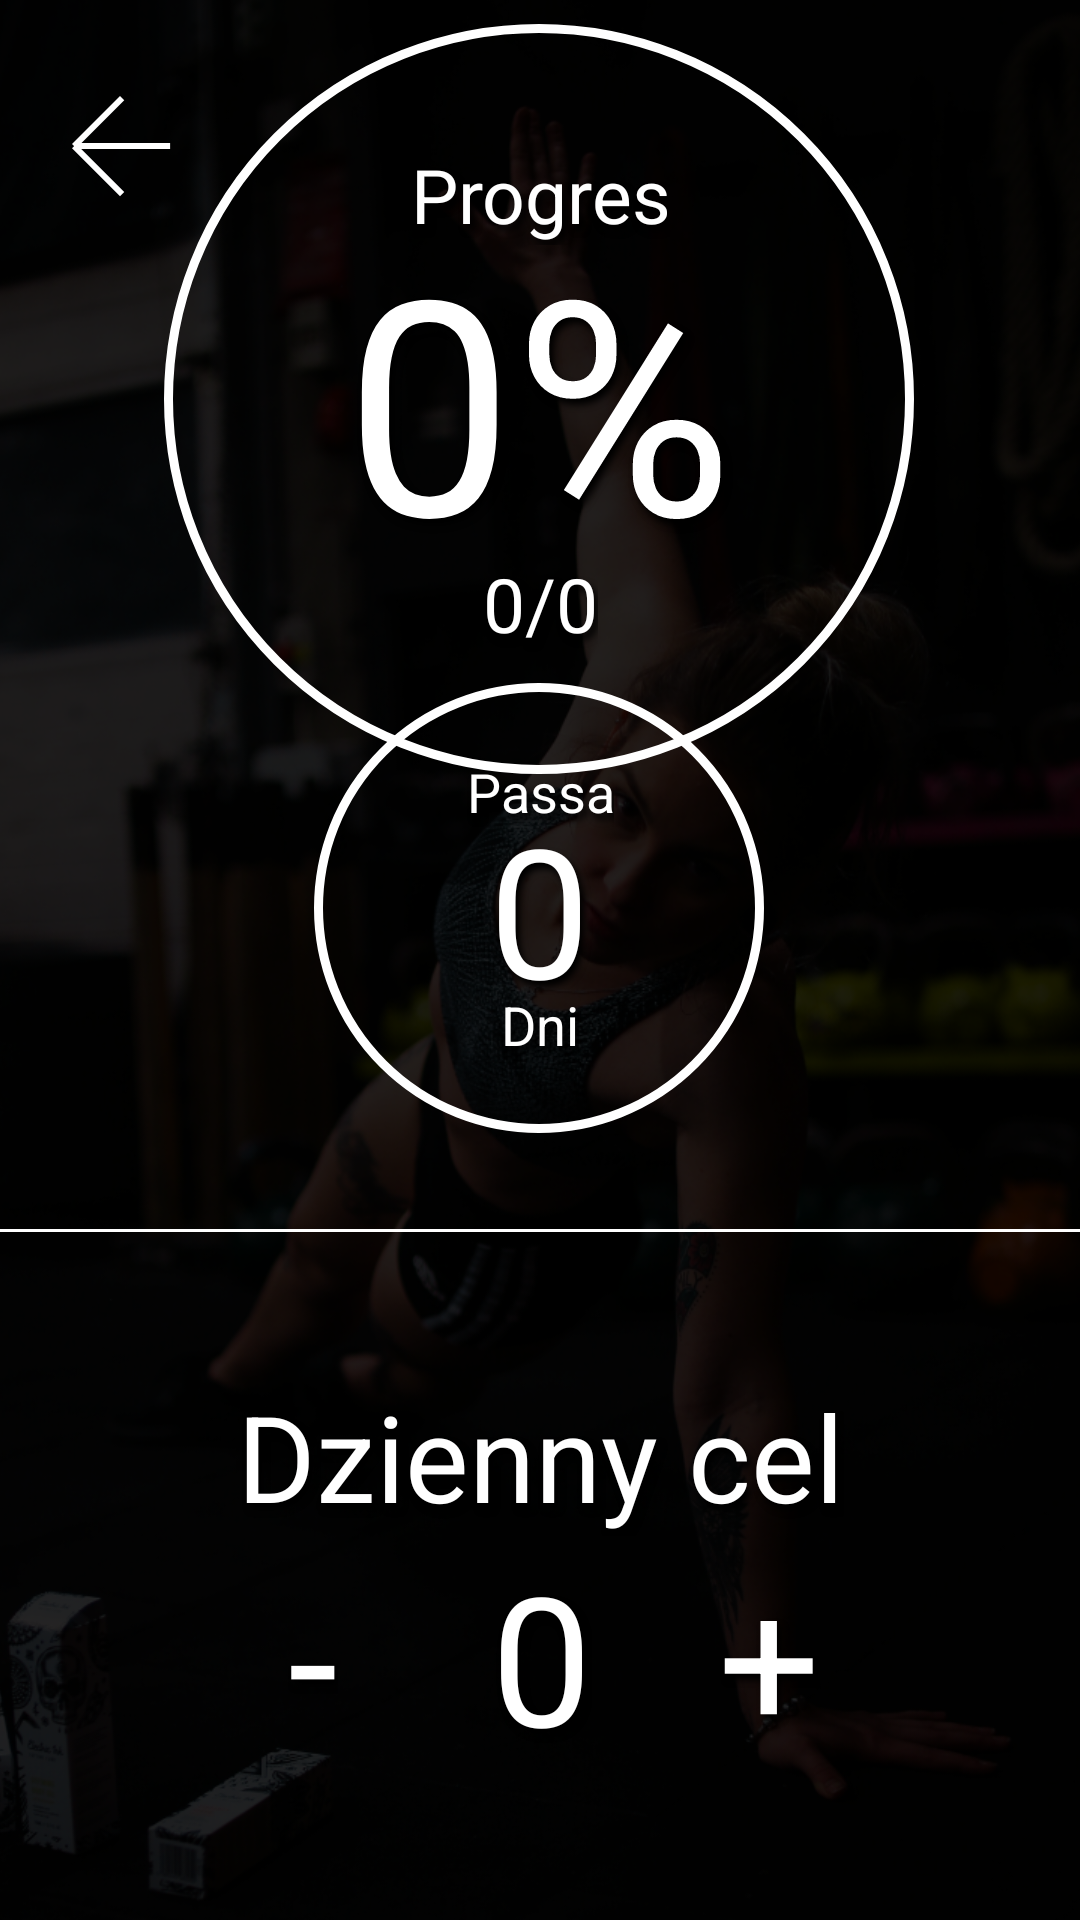

Icon click points for this 1080×1920 phone screenshot, format [x,y]:
backbtn: [121,146]
